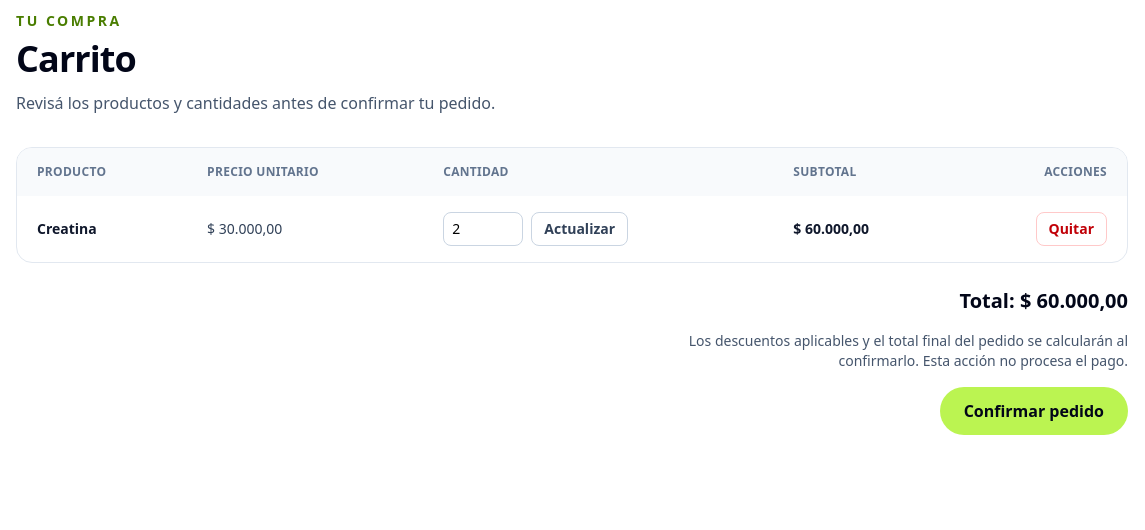
Test: carrito de compras › muestra los importes del servidor, actualiza cantidades y quita productos
The image size is (1145, 530).
Expected: the text "Creatina" is shown, [17, 196, 187, 262]
Expected: the text "Total: $ 60.000,00" is shown, [960, 287, 1128, 315]
Replace the text in the number field named "Cantidad de Creatina" with "3" at (483, 229), box [443, 212, 523, 246]
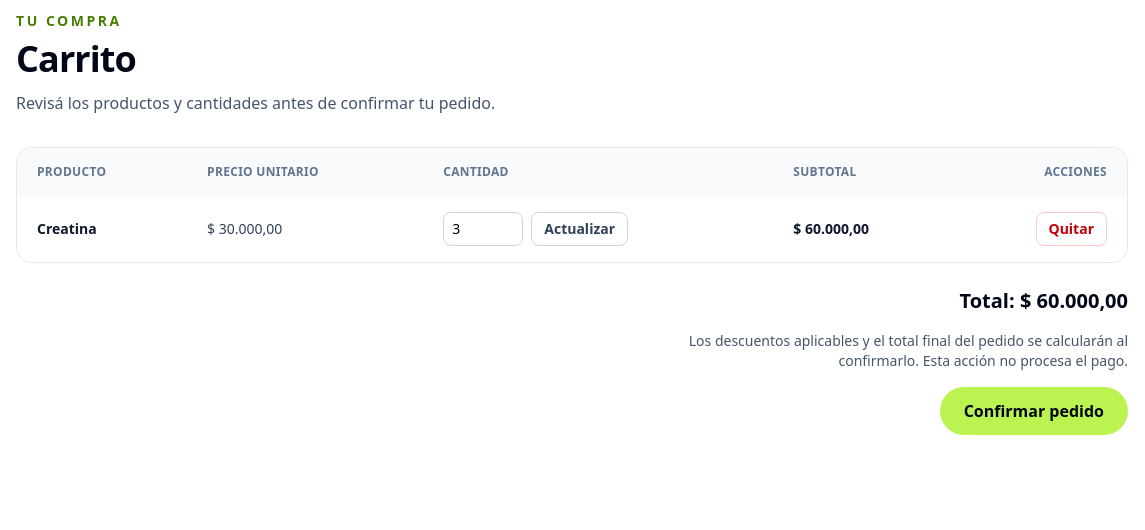
Click the button "Actualizar" at (580, 229), box [531, 212, 628, 246]
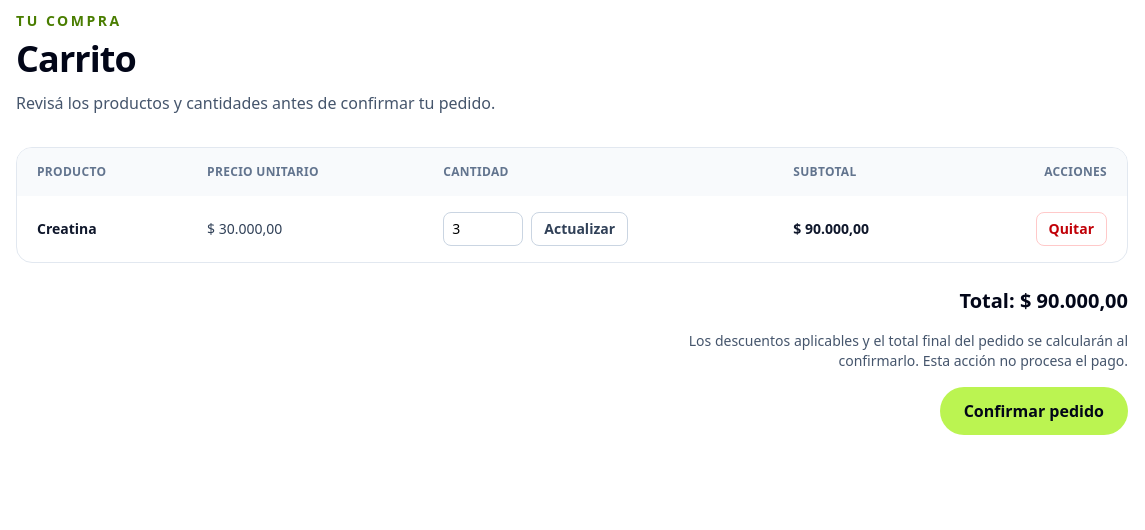
Expected: the text "Total: $ 90.000,00" is shown, [960, 287, 1128, 315]
Replace the text in the number field named "Cantidad de Creatina" with "999" at (483, 229), box [443, 212, 523, 246]
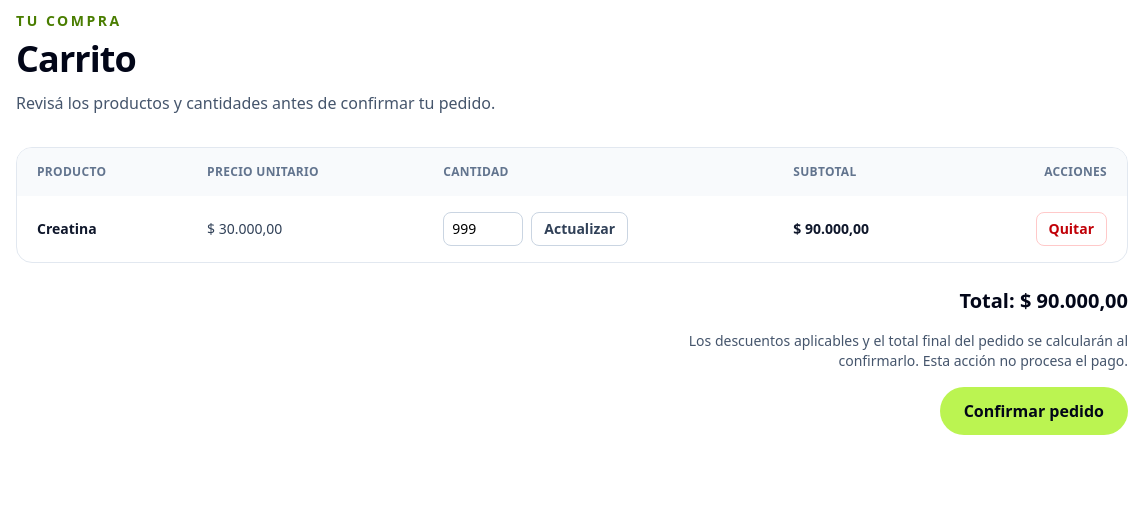
Click the button "Actualizar" at (580, 229), box [531, 212, 628, 246]
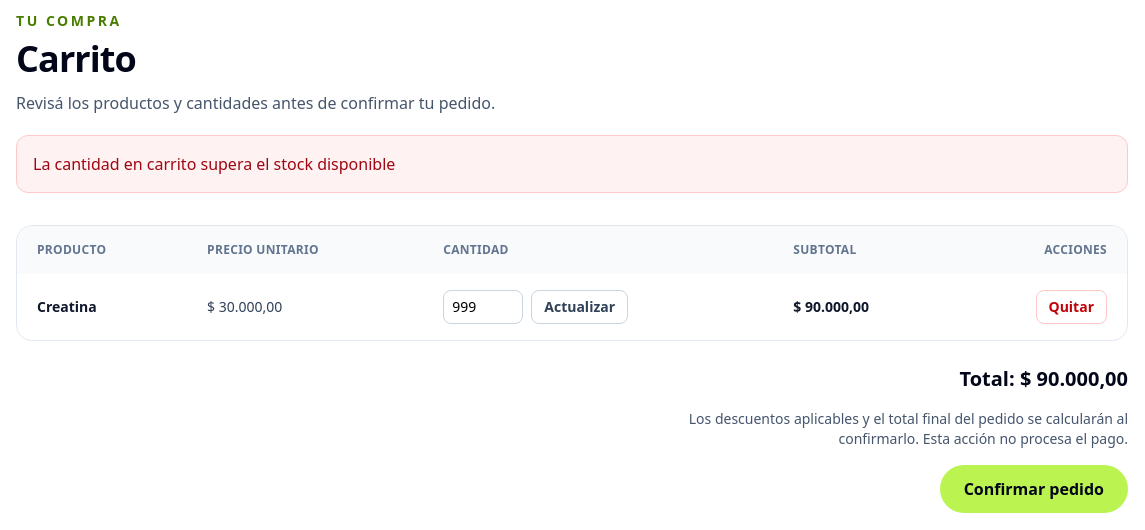
Expected: the message reads "La cantidad en carrito supera el stock disponible", [33, 153, 395, 175]
Click the button "Quitar" at (1071, 307), box [1036, 290, 1107, 324]
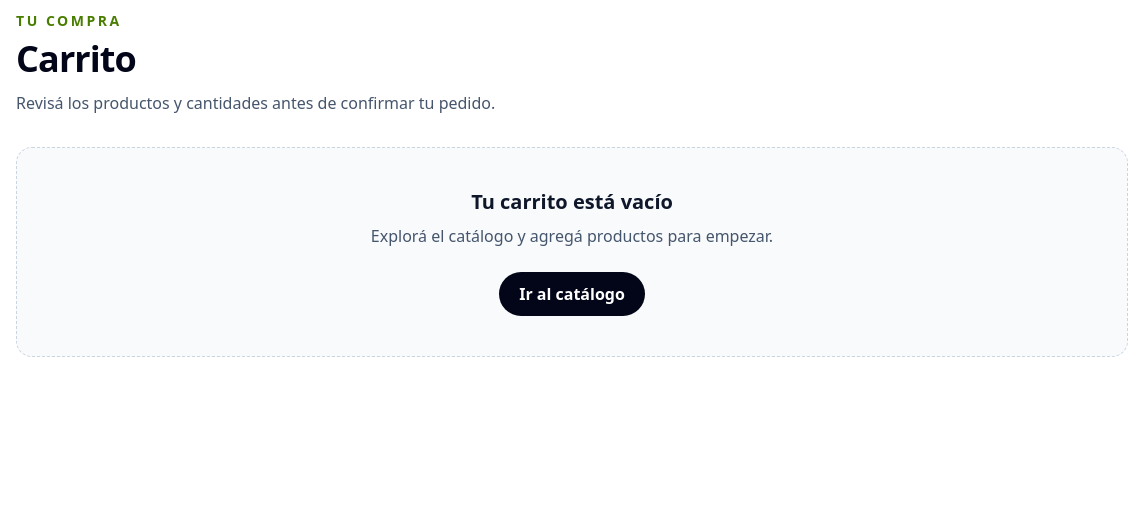
Expected: the heading "Tu carrito está vacío" is shown, [471, 188, 673, 215]
